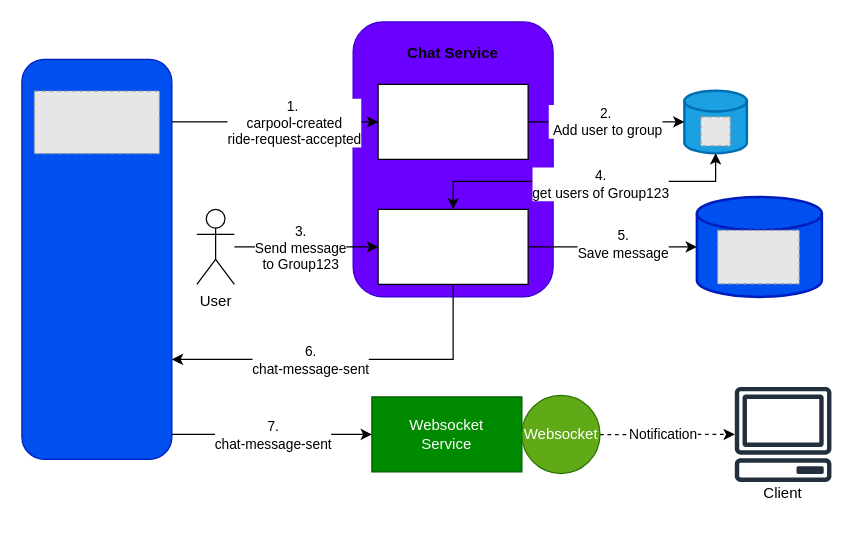
This 854x534 diagram has some shape labels left out. Grey dashed boxes stand in for pictures. The shapes that lost their labels are listed below. From the top down, each one's centre as x and y in pixels, then its label:
At pixel 452 121: "Projector".
At pixel 452 246: "Controller".
